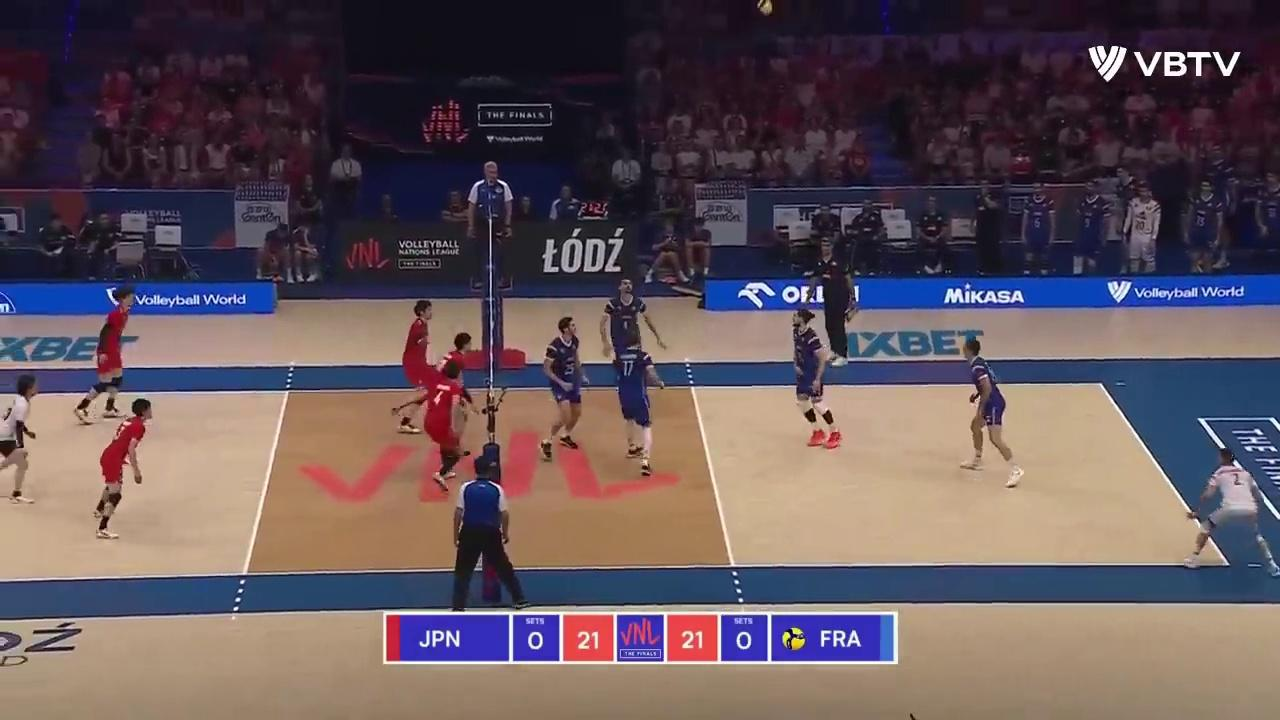ball: (758, 0, 774, 18)
